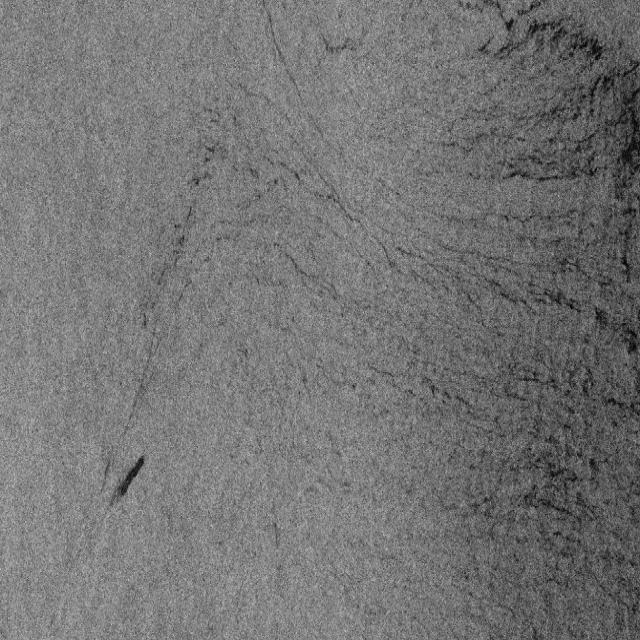look-alike: (465, 301, 636, 633), (496, 19, 636, 272)
oil-spill: (110, 454, 147, 510)
